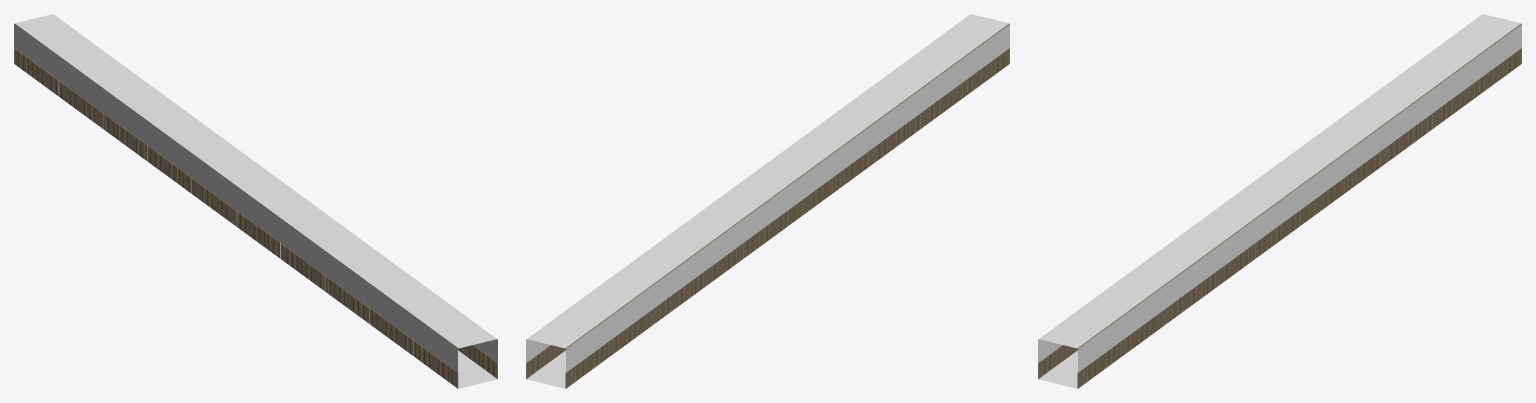
File: CORRIDOR.fbx
3 views of the same model, side by side, from view 1: azimuth 30°, elevation 25°; view 2: azimuth 150°, elevation 25°; view 3: azimuth 330°, elevation 25° (orthographic).
Parts seen in each view (by area): view 1: Plane.001, Plane, Circle.001; view 2: Plane.001, Plane, Circle.001; view 3: Plane.001, Plane, Circle.001.
Boxes of the visible parts, <box> form: Plane.001: <box>14,14,497,388</box>; Plane: <box>40,83,496,388</box>; Circle.001: <box>40,25,471,337</box>; Plane.001: <box>526,14,1009,388</box>; Plane: <box>527,88,975,388</box>; Circle.001: <box>552,25,983,337</box>; Plane.001: <box>1038,14,1521,388</box>; Plane: <box>1039,88,1487,388</box>; Circle.001: <box>1064,25,1495,337</box>.
Bounding box in the file's own units: 310 × 300 × 5986.
